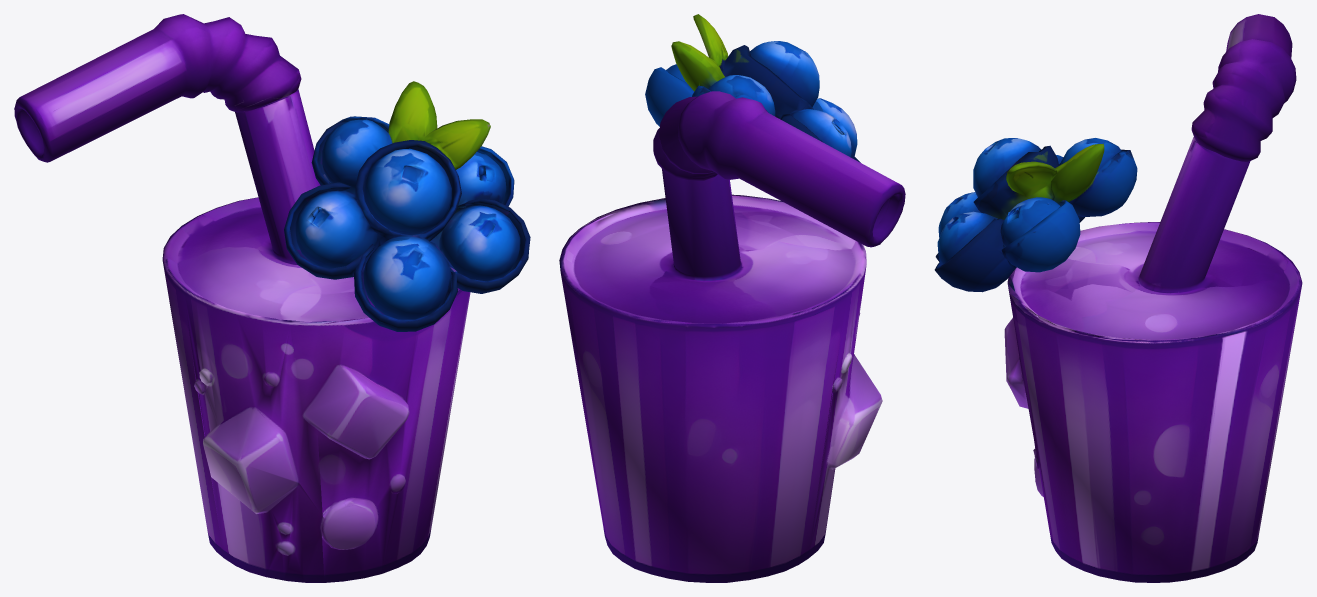
Rendered from Web_Smoothie_Blueberry.fbx.
3 renders of one model, left to right at view 1: azimuth 30°, elevation 25°; view 2: azimuth 150°, elevation 25°; view 3: azimuth 270°, elevation 25°, orthographic. The views are drawn at different scales.
Visible parts, largest first — view 1: mesh_rep_0_ori_repair; view 2: mesh_rep_0_ori_repair; view 3: mesh_rep_0_ori_repair.
Boxes of the visible parts, x1=… form: mesh_rep_0_ori_repair: x1=14, y1=14, x2=530, y2=582; mesh_rep_0_ori_repair: x1=559, y1=14, x2=905, y2=582; mesh_rep_0_ori_repair: x1=934, y1=14, x2=1302, y2=582.
Bounding box in the file's own units: 73.99 × 94.71 × 68.07.
1 material, 1 textured.
